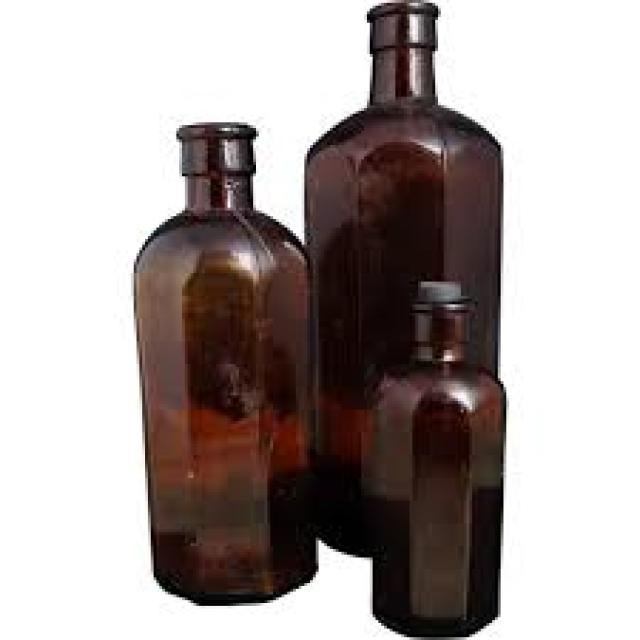glass: (302, 0, 501, 555), (128, 119, 316, 603), (362, 296, 504, 637)
